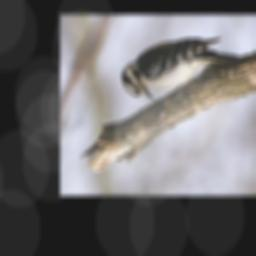Woodpecker: (113, 32, 243, 102)
